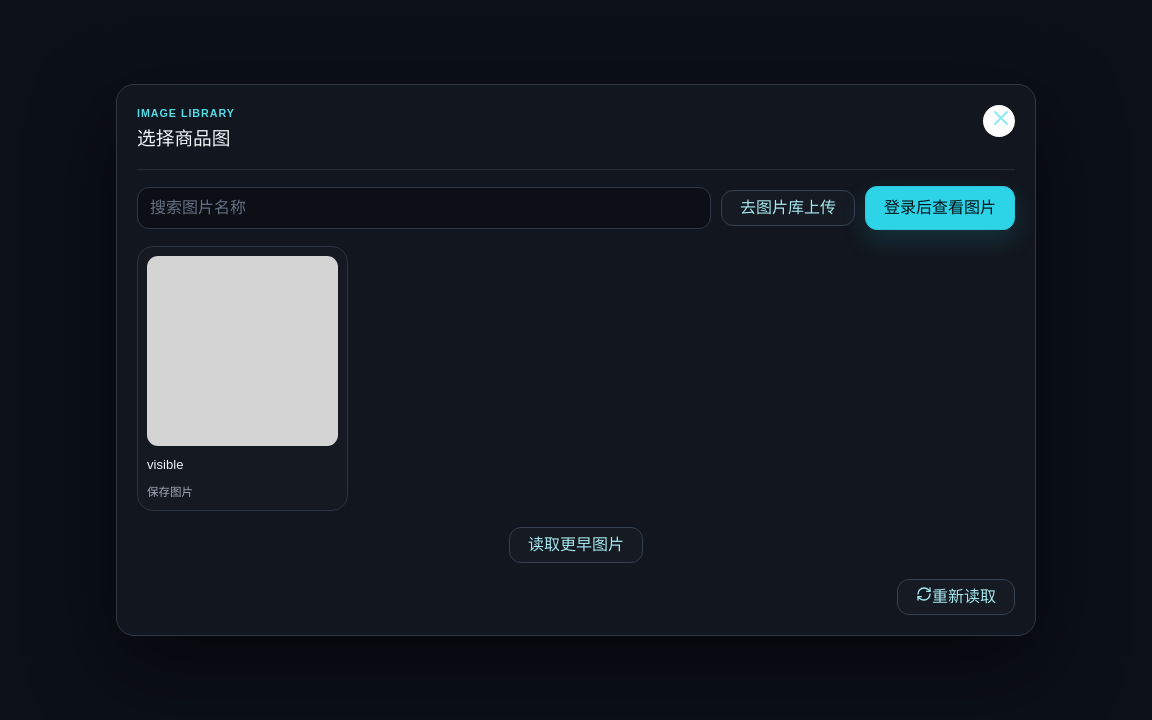
Test: retains already displayed images when refresh fails even without disk cache
Click the button "重新读取" at (956, 597), box x1=897 y1=579 x2=1015 y2=615
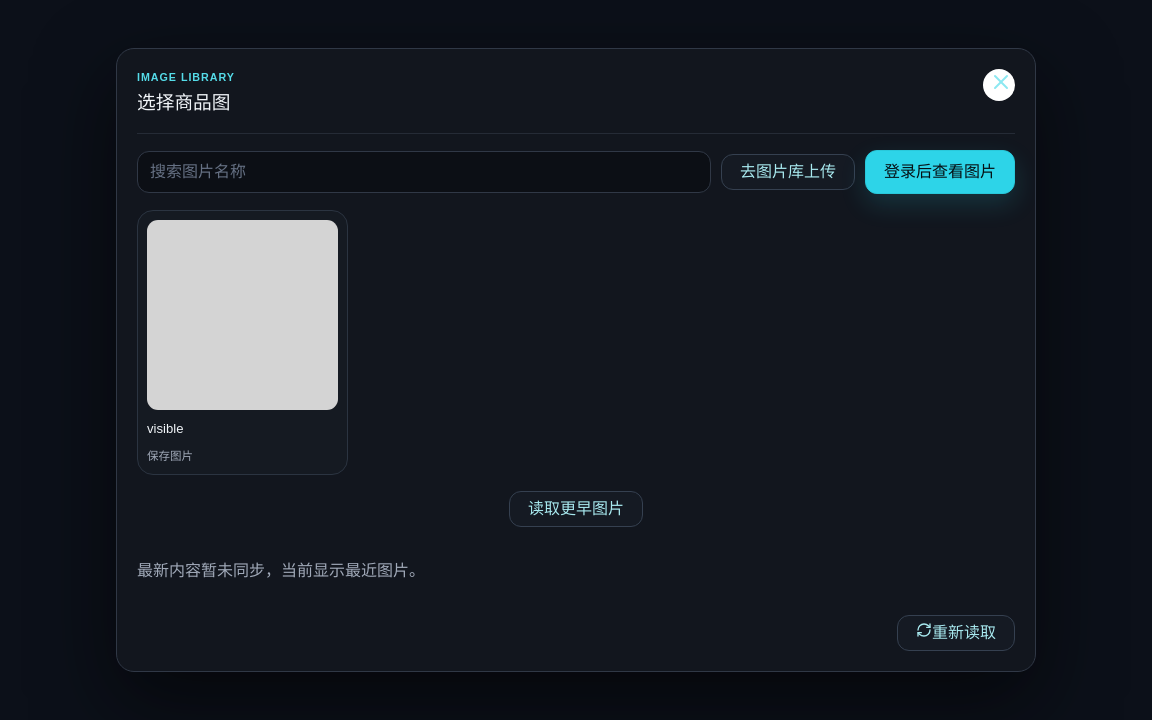
Result: the text "最新内容暂未同步，当前显示最近图片。" is shown at x1=137 y1=562 x2=425 y2=579
